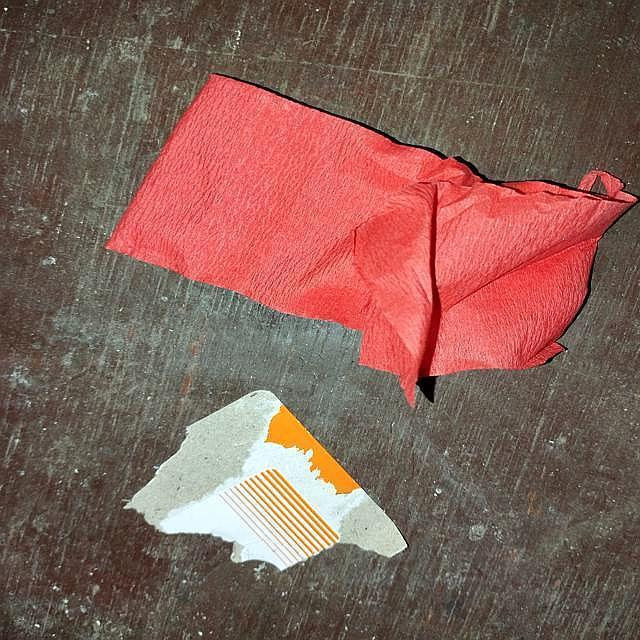Biodegradable: (102, 68, 640, 456), (115, 380, 412, 620)
